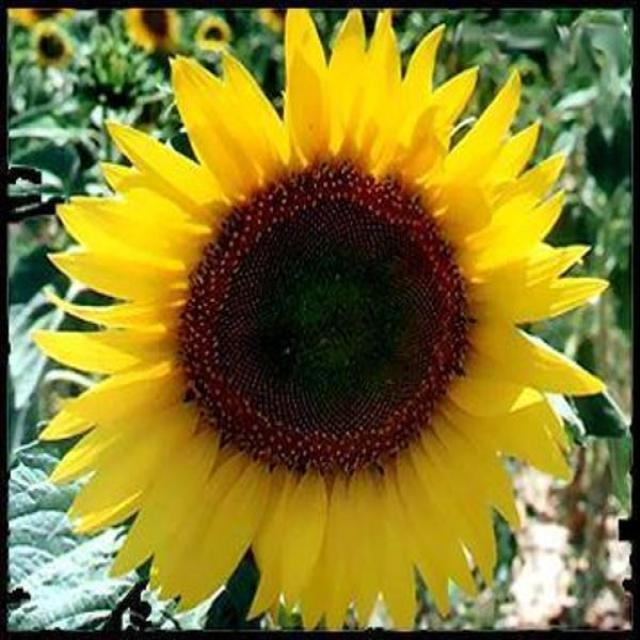sunflower: (30, 0, 611, 634), (114, 9, 192, 52), (30, 21, 84, 74), (184, 13, 240, 58), (4, 3, 74, 24), (252, 8, 291, 40)
